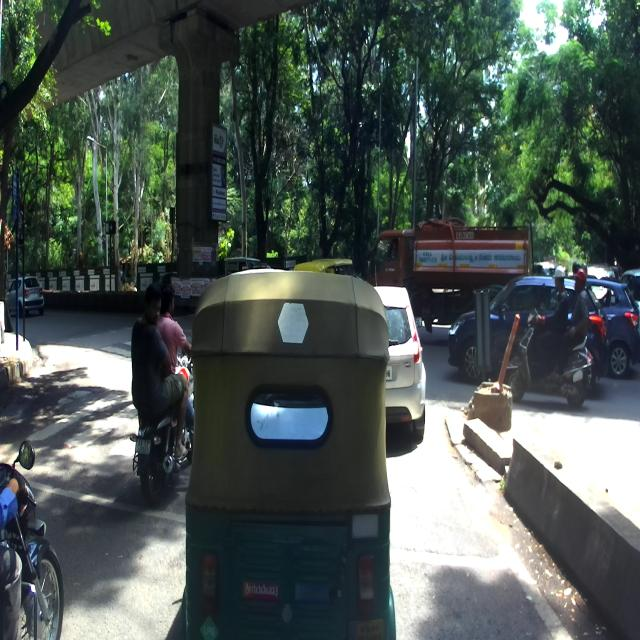auto ahead at: (187, 281, 393, 640)
motorcycle ahead at: (0, 435, 62, 640), (127, 415, 194, 494)
